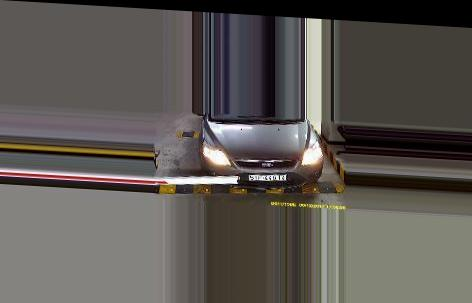License_Plate: (248, 172, 289, 183)
